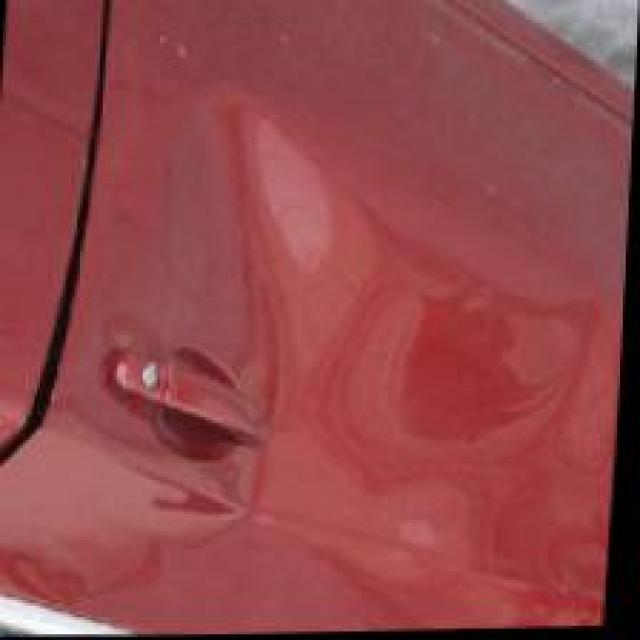car damage: (0, 506, 467, 556), (0, 0, 541, 6), (0, 328, 259, 334)
